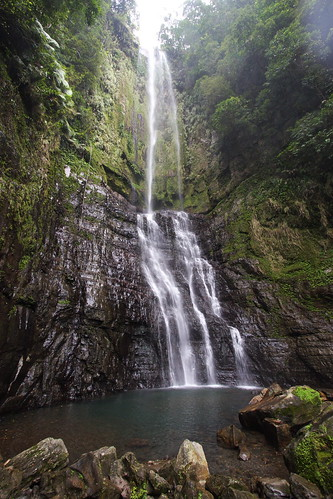wufengciWaterfall: (112, 36, 273, 403)
